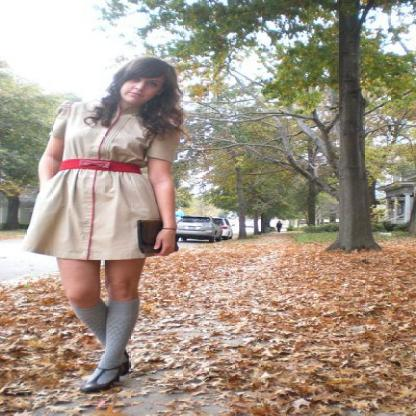bag: (138, 209, 170, 257)
dress: (26, 102, 175, 268)
shoe: (87, 358, 116, 386)
